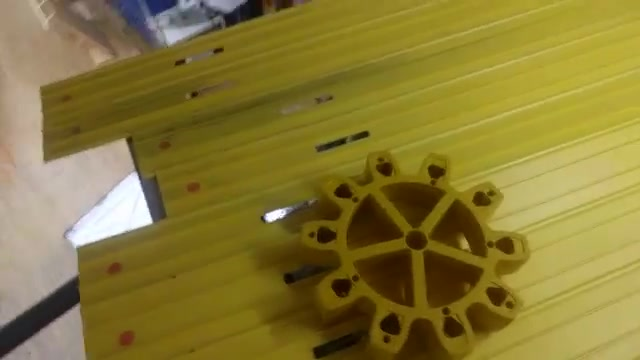gear: (287, 139, 533, 360), (290, 140, 535, 360)
